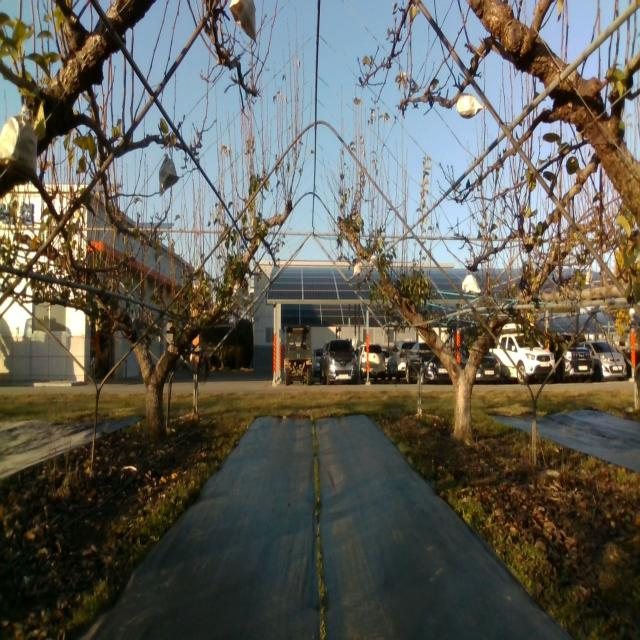pearbags: (0, 114, 39, 172), (229, 0, 259, 41), (159, 154, 179, 196), (456, 92, 483, 118), (462, 274, 481, 294)
